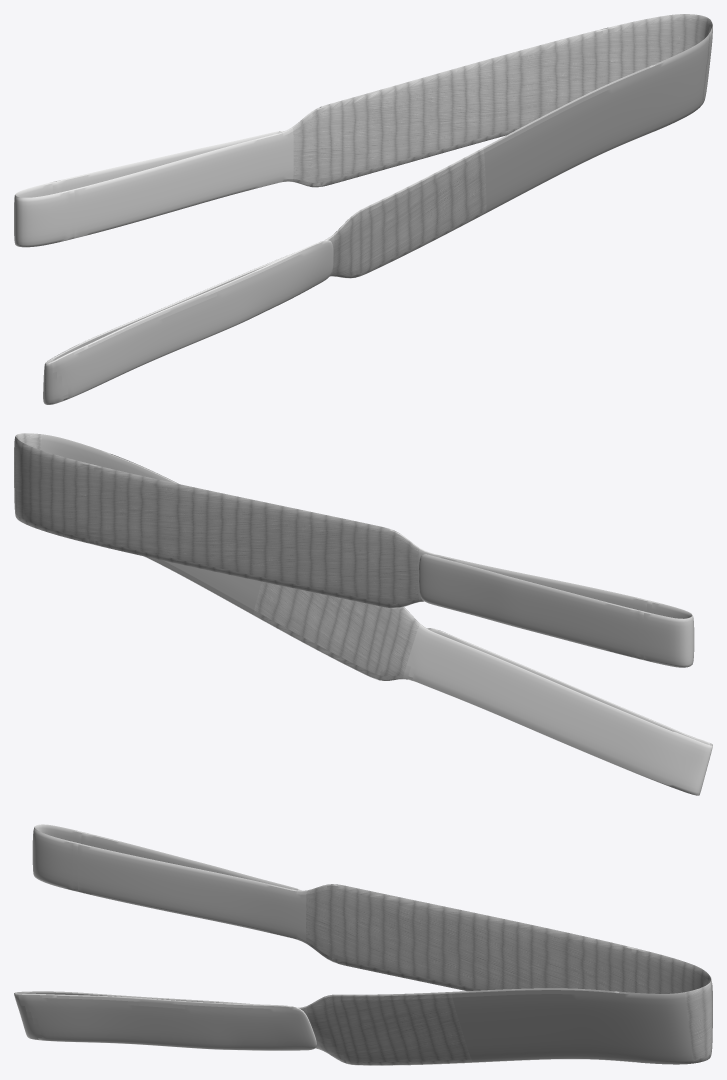
The model's file is SlingBelt1.fbx.
3 renders of one model, top to bottom at view 1: azimuth 30°, elevation 25°; view 2: azimuth 150°, elevation 25°; view 3: azimuth 330°, elevation 25°, orthographic.
Parts seen in each view (by area): view 1: Cube.002; view 2: Cube.002; view 3: Cube.002.
Boxes of the visible parts, x1,y1,x2,y2 form: Cube.002: [14, 14, 712, 404]; Cube.002: [14, 433, 712, 795]; Cube.002: [14, 824, 712, 1065].
Bounding box in the file's own units: 614 × 181 × 57.22.
